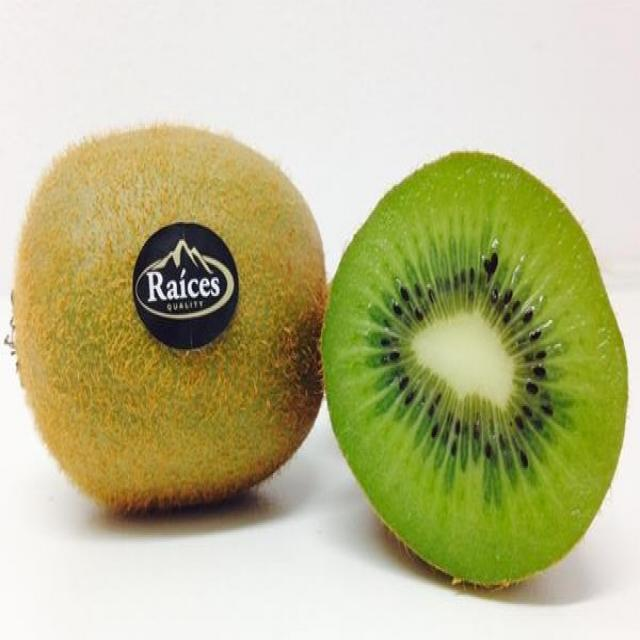kiwi: (320, 146, 630, 590), (11, 115, 318, 516)
